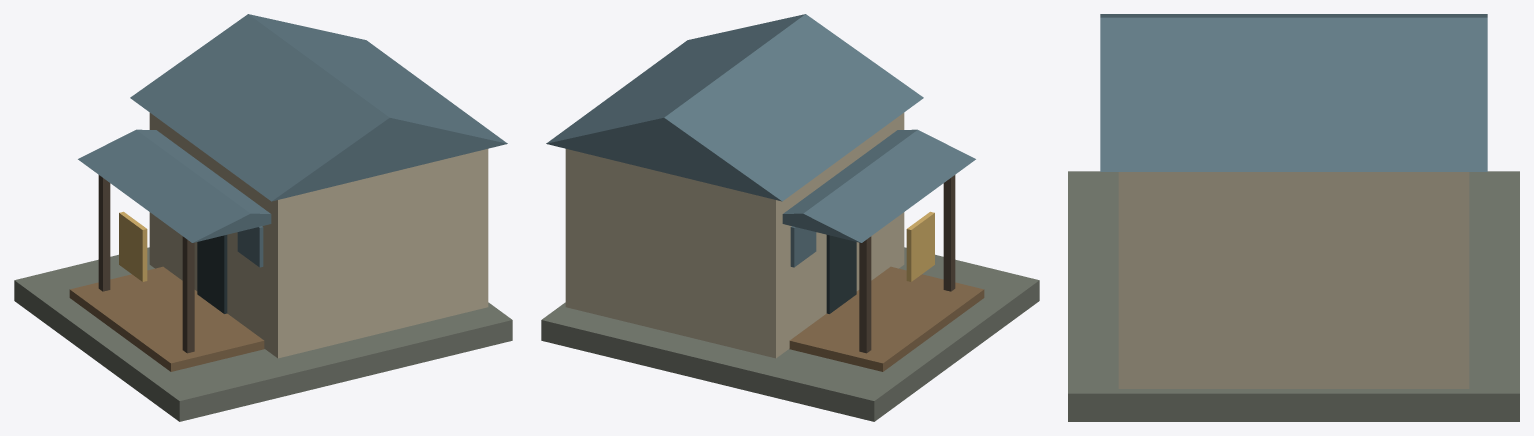
Rendered from layout_insurance.glb.
The picture shows the model from 3 angles, left to right: view 1: azimuth 30°, elevation 25°; view 2: azimuth 150°, elevation 25°; view 3: azimuth 270°, elevation 25°; orthographic projection. The views are drawn at different scales.
Parts seen in each view (by area): view 1: insurance_HarborLayout_blue, insurance_HarborLayout_wall, insurance_HarborLayout_rock, insurance_HarborLayout_wood, insurance_HarborLayout_beam, insurance_HarborLayout_dark, insurance_HarborLayout_gold; view 2: insurance_HarborLayout_blue, insurance_HarborLayout_wall, insurance_HarborLayout_rock, insurance_HarborLayout_wood, insurance_HarborLayout_beam, insurance_HarborLayout_dark, insurance_HarborLayout_gold; view 3: insurance_HarborLayout_wall, insurance_HarborLayout_blue, insurance_HarborLayout_rock.
Boxes of the visible parts, box(x1,y1,x2,y2) form: insurance_HarborLayout_blue: box(78, 14, 507, 267); insurance_HarborLayout_wall: box(149, 113, 488, 358); insurance_HarborLayout_rock: box(14, 247, 512, 421); insurance_HarborLayout_wood: box(69, 266, 264, 371); insurance_HarborLayout_beam: box(98, 175, 194, 353); insurance_HarborLayout_dark: box(197, 235, 227, 313); insurance_HarborLayout_gold: box(119, 211, 147, 281); insurance_HarborLayout_blue: box(546, 14, 975, 267); insurance_HarborLayout_wall: box(565, 113, 904, 358); insurance_HarborLayout_rock: box(541, 247, 1039, 421); insurance_HarborLayout_wood: box(789, 266, 984, 371); insurance_HarborLayout_beam: box(859, 175, 955, 353); insurance_HarborLayout_dark: box(826, 235, 856, 313); insurance_HarborLayout_gold: box(906, 211, 934, 281); insurance_HarborLayout_wall: box(1118, 172, 1469, 388); insurance_HarborLayout_blue: box(1100, 14, 1487, 171); insurance_HarborLayout_rock: box(1068, 171, 1519, 421).
Size of the model in its own units: 5.83 by 3.95 by 4.9.
